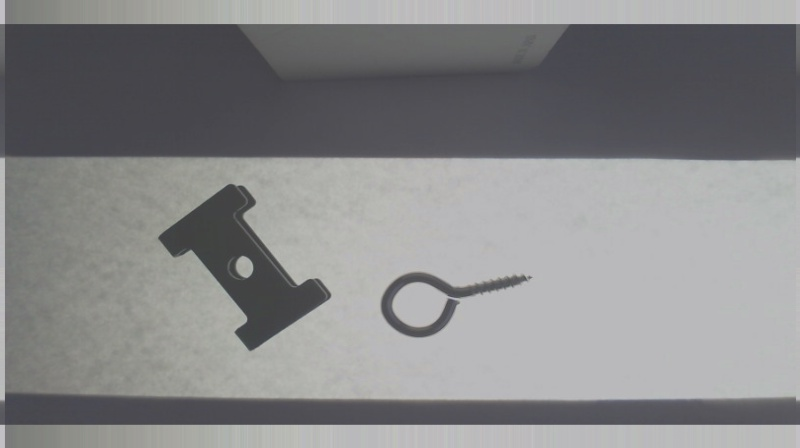O001: (379, 262, 536, 338)
O002: (155, 184, 331, 351)
